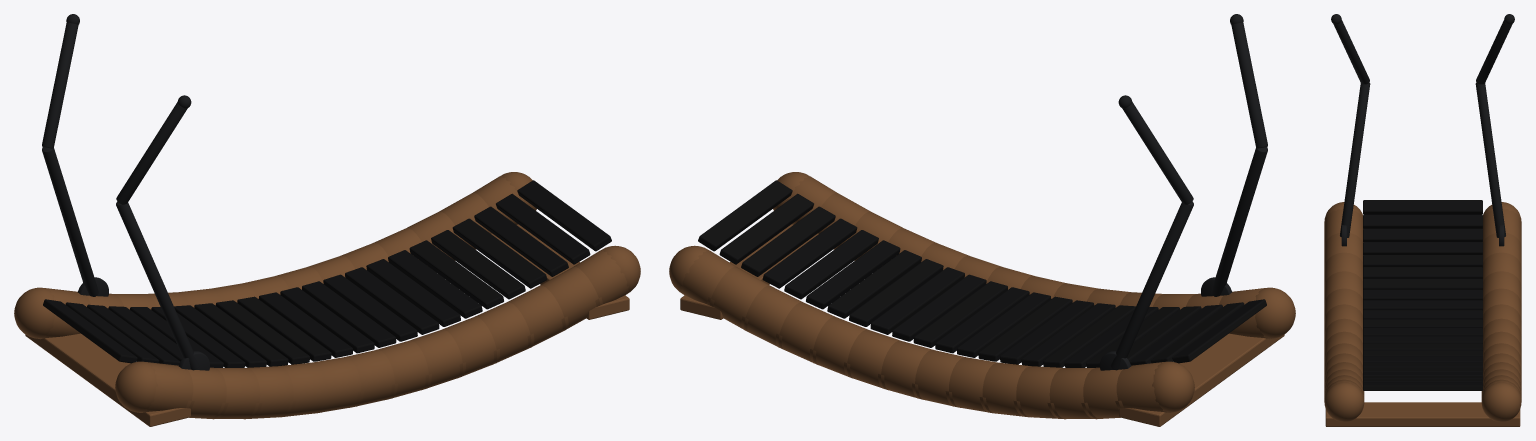
Rendered from treadmill_premium.glb.
3 views of the same model, side by side, from view 1: azimuth 30°, elevation 25°; view 2: azimuth 150°, elevation 25°; view 3: azimuth 270°, elevation 25° (orthographic). The views are drawn at different scales.
Parts seen in each view (by area): view 1: Cube.023, Cylinder.032, Cube.022, Cube.021, Cube.020, Cube.019, Cube.018, Cube.017, Cube.016, Cube.015, Cylinder.025, Cylinder.026 (+43 smaller); view 2: Cube.023, Cylinder.029, Cube.022, Cube.021, Cube.020, Cube.019, Cube.018, Cube.017, Cube.016, Cube.015, Cylinder.011, Cylinder.012 (+43 smaller); view 3: Cube.024, Cube, Cube.001, Cube.002, Cube.003, Cylinder.029, Cylinder.032, Cube.004, Cube.005, Cube.006, Cube.007, Sphere.001 (+44 smaller).
Boxes of the visible parts, <box> form: Cube.023: <box>25,333,190,426</box>; Cylinder.032: <box>116,201,199,370</box>; Cube.022: <box>517,180,611,251</box>; Cube.021: <box>496,193,590,264</box>; Cube.020: <box>474,206,568,276</box>; Cube.019: <box>452,218,547,288</box>; Cube.018: <box>431,230,525,299</box>; Cube.017: <box>409,240,503,309</box>; Cube.016: <box>388,250,482,318</box>; Cube.015: <box>366,259,460,326</box>; Cylinder.025: <box>507,285,568,349</box>; Cylinder.026: <box>539,266,602,332</box>; Cube.023: <box>1119,333,1284,426</box>; Cylinder.029: <box>1110,201,1193,370</box>; Cube.022: <box>698,180,792,251</box>; Cube.021: <box>719,193,813,264</box>; Cube.020: <box>741,206,835,276</box>; Cube.019: <box>762,218,857,288</box>; Cube.018: <box>784,230,878,299</box>; Cube.017: <box>806,240,900,309</box>; Cube.016: <box>827,250,921,318</box>; Cube.015: <box>849,259,943,326</box>; Cylinder.011: <box>741,285,802,349</box>; Cylinder.012: <box>707,266,770,332</box>; Cube.024: <box>1325,402,1520,426</box>; Cube: <box>1363,200,1482,214</box>; Cube.001: <box>1363,214,1482,228</box>; Cube.002: <box>1363,228,1482,242</box>; Cube.003: <box>1363,242,1482,254</box>; Cylinder.029: <box>1475,83,1505,237</box>; Cylinder.032: <box>1340,83,1370,237</box>; Cube.004: <box>1363,255,1482,267</box>; Cube.005: <box>1363,267,1482,279</box>; Cube.006: <box>1363,278,1482,290</box>; Cube.007: <box>1363,289,1482,300</box>; Sphere.001: <box>1481,382,1521,421</box>.
Size of the model in its own units: 1.75 by 1.14 by 0.74.
